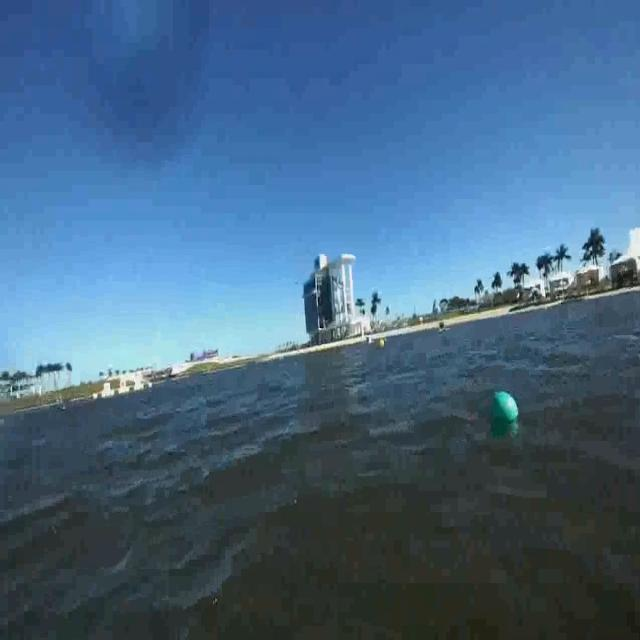green-buoy: (490, 393, 517, 426)
yellow-buoy: (379, 338, 387, 352)
